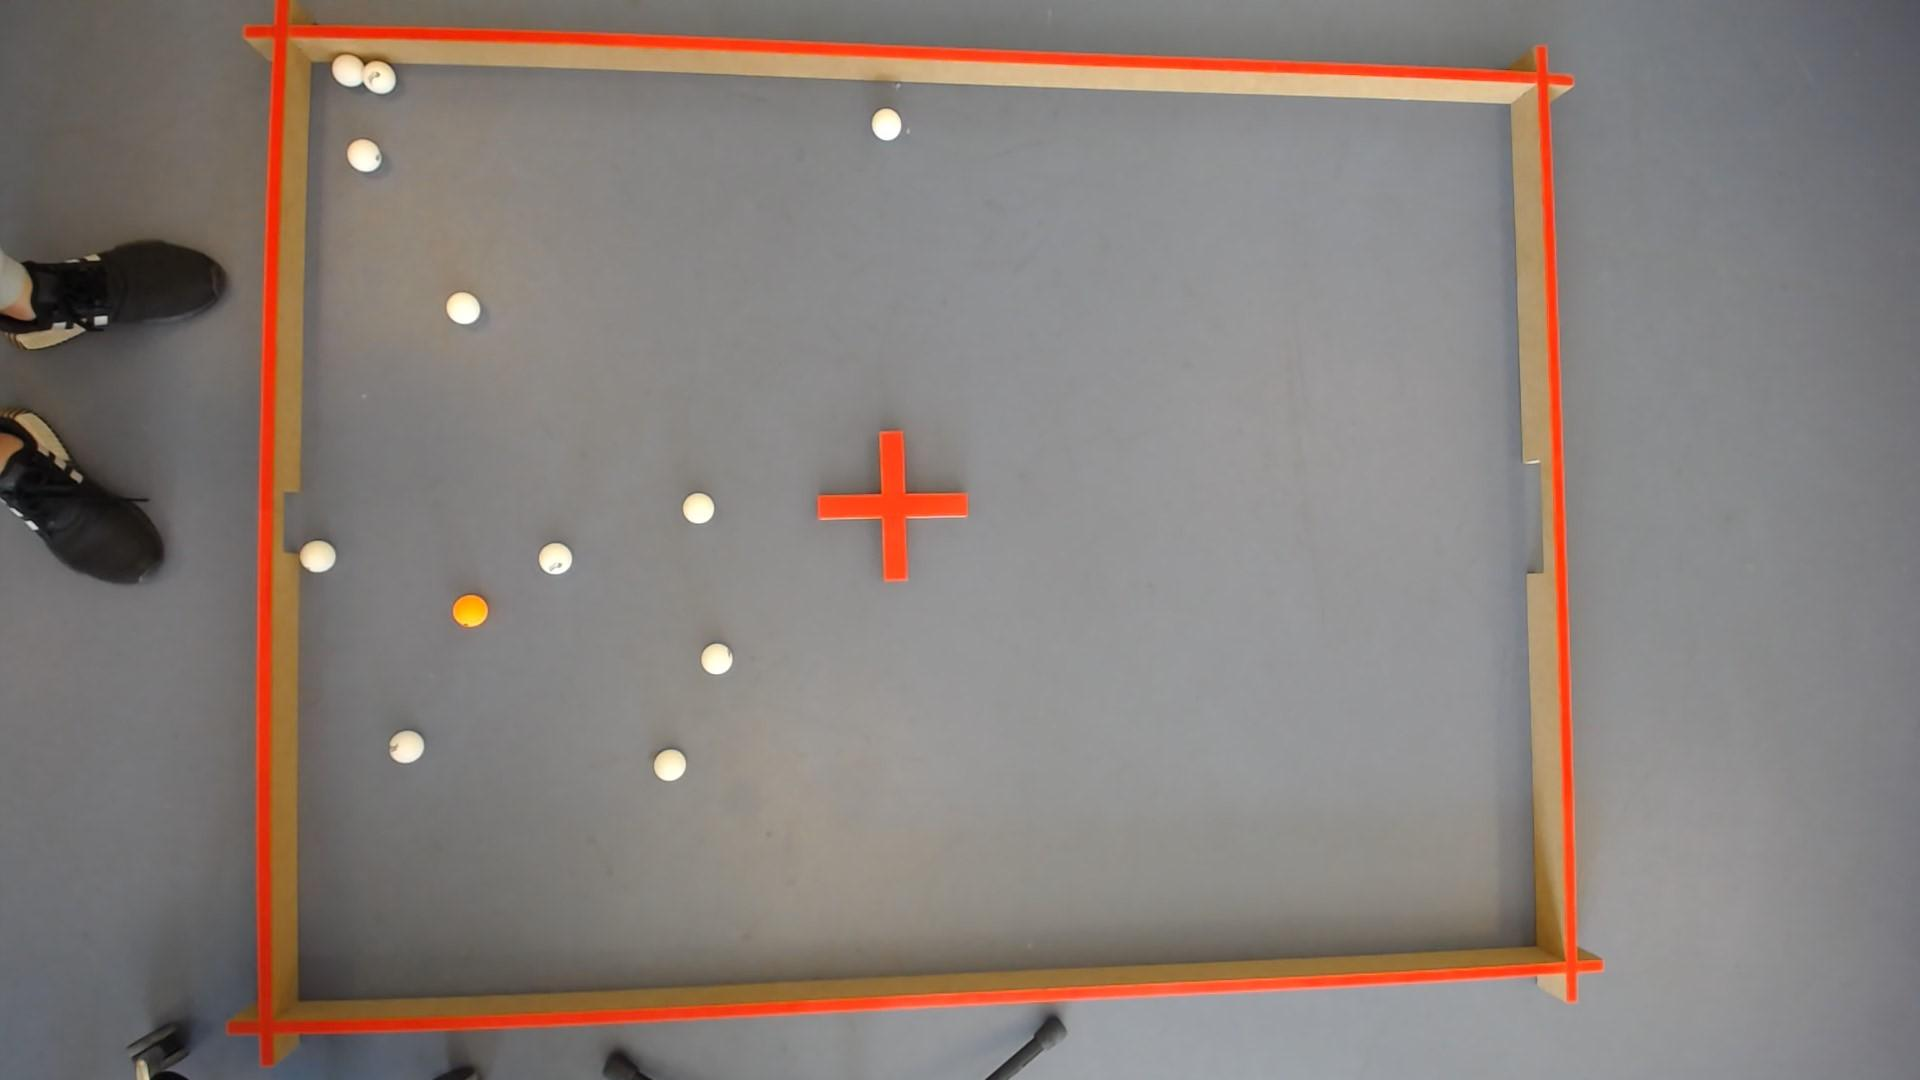orange: (451, 593, 487, 626)
white: (344, 136, 380, 170), (651, 748, 686, 782), (386, 731, 423, 762), (297, 541, 334, 572), (444, 290, 479, 323), (361, 58, 394, 91), (330, 51, 363, 84), (872, 105, 903, 138), (538, 542, 570, 574), (682, 492, 713, 522), (700, 644, 732, 674)
